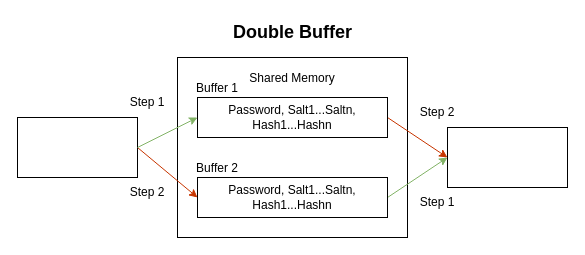
This 585x255 diagram has some shape labels left out. Each missing label, with the centre of its shape:
"Communication Controller" belongs at point 77,147.
"Core Controller" belongs at point 507,157.
